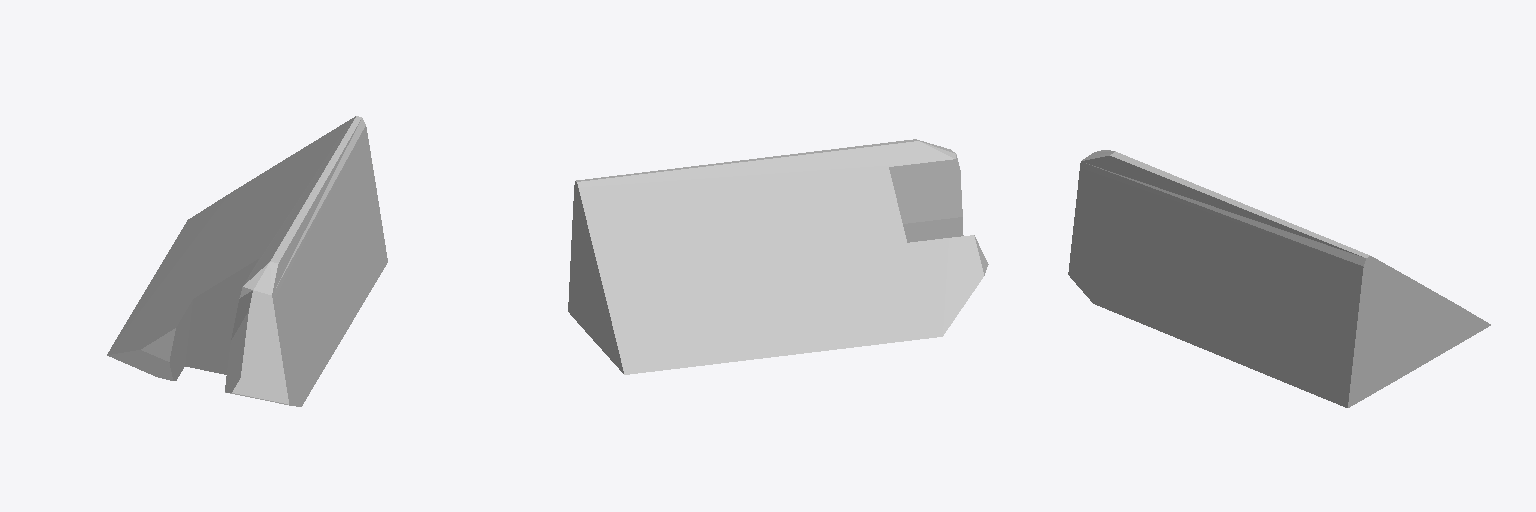
File: li-fang-ti-.001_cell.124.obj
3 views of the same model, side by side, from view 1: azimuth 30°, elevation 25°; view 2: azimuth 150°, elevation 25°; view 3: azimuth 270°, elevation 25° (orthographic).
Parts seen in each view (by area): view 1: 立方体.001_cell.124; view 2: 立方体.001_cell.124; view 3: 立方体.001_cell.124.
Boxes of the visible parts, box(x1,y1,x2,y2) form: 立方体.001_cell.124: box(107, 116, 387, 406); 立方体.001_cell.124: box(568, 139, 988, 374); 立方体.001_cell.124: box(1068, 150, 1490, 407).
Bounding box in the file's own units: 0.333 × 0.1371 × 0.3679.